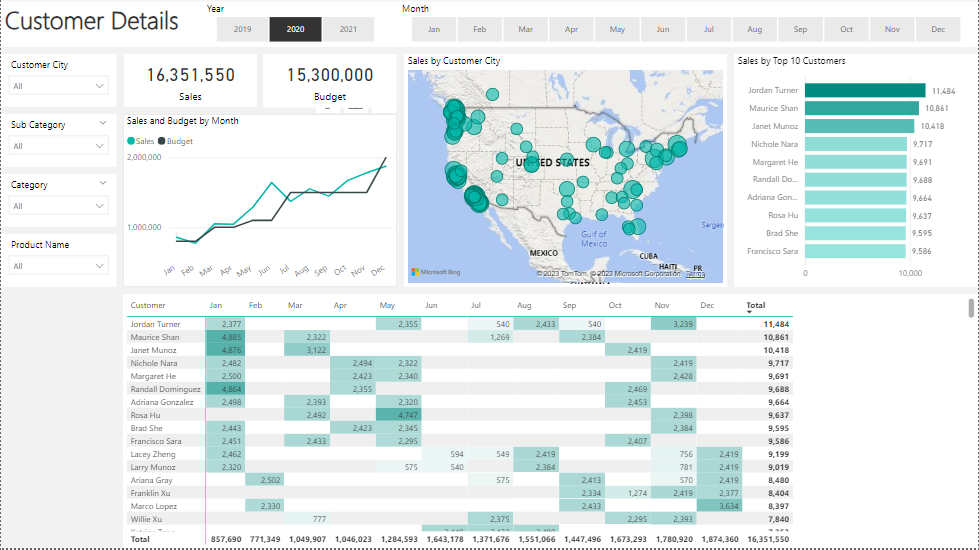

Layout of this report page (visuals, bound fields, positions):
{"tool":"powerbi","page":{"name":"Customer Details","canvas":[1280,720],"ordinal":1},"visuals":[{"type":"textbox","box":[0,0,1280,64],"z":0},{"type":"slicer","fields":{"Values":["DIM_Calendar.Year"]},"box":[256,0,256,64],"z":1000},{"type":"slicer","fields":{"Values":["DIM_Calendar.MonthShort"]},"box":[512,0,768,64],"z":2000},{"type":"slicer","fields":{"Values":["DIM_Customers.Customer City"]},"box":[0,73,150.5,69.3],"z":3000},{"type":"slicer","fields":{"Values":["DIM_Products.Product Category"]},"box":[0,229.9,150.5,69.3],"z":4000},{"type":"slicer","fields":{"Values":["DIM_Products.Product Name"]},"box":[0,308.4,150.5,69.3],"z":5000},{"type":"slicer","fields":{"Values":["DIM_Products.Sub Category"]},"box":[0,151.4,150.5,69.3],"z":6000},{"type":"lineChart","fields":{"Category":["DIM_Calendar.MonthShort"],"Y":["Analysis Metrics.Sales","Analysis Metrics.Budget"]},"box":[159.8,151.8,358.7,226.4],"z":7000},{"type":"card","fields":{"Values":["Analysis Metrics.Sales"]},"box":[160.7,72.8,174,69.2],"z":8000},{"type":"map","fields":{"Category":["DIM_Customers.Customer City"],"Size":["Analysis Metrics.Sales"]},"box":[527.3,72.8,423.5,304.5],"z":9000},{"type":"card","fields":{"Values":["Analysis Metrics.Budget"]},"box":[343.6,72.8,174.9,70.1],"z":10000},{"type":"pivotTable","fields":{"Rows":["DIM_Customers.Full Name"],"Columns":["DIM_Calendar.MonthShort"],"Values":["Analysis Metrics.Sales"]},"box":[159.8,387.1,1120.4,332.9],"z":11000},{"type":"barChart","title":"Sales by Top 10 Customers","fields":{"Category":["DIM_Customers.Full Name"],"Y":["Analysis Metrics.Sales"]},"box":[959.7,72.8,320.5,304.5],"z":12000}]}

Visuals, with their boxes in screenshot pixels (x1, y1, x2, y2), scaled from the page's 1280x720 canvas onto the 979x550 screenshot:
textbox: <box>0,0,978,49</box>
slicer - DIM_Calendar.Year: <box>196,0,392,49</box>
slicer - DIM_Calendar.MonthShort: <box>392,0,978,49</box>
slicer - DIM_Customers.Customer City: <box>0,56,115,109</box>
slicer - DIM_Products.Product Category: <box>0,176,115,229</box>
slicer - DIM_Products.Product Name: <box>0,236,115,289</box>
slicer - DIM_Products.Sub Category: <box>0,116,115,169</box>
lineChart - DIM_Calendar.MonthShort x Analysis Metrics.Sales: <box>122,116,397,289</box>
card - Analysis Metrics.Sales: <box>123,56,256,108</box>
map - DIM_Customers.Customer City x Analysis Metrics.Sales: <box>403,56,727,288</box>
card - Analysis Metrics.Budget: <box>263,56,397,109</box>
pivotTable - DIM_Customers.Full Name x DIM_Calendar.MonthShort: <box>122,296,978,549</box>
"Sales by Top 10 Customers" barChart: <box>734,56,978,288</box>
